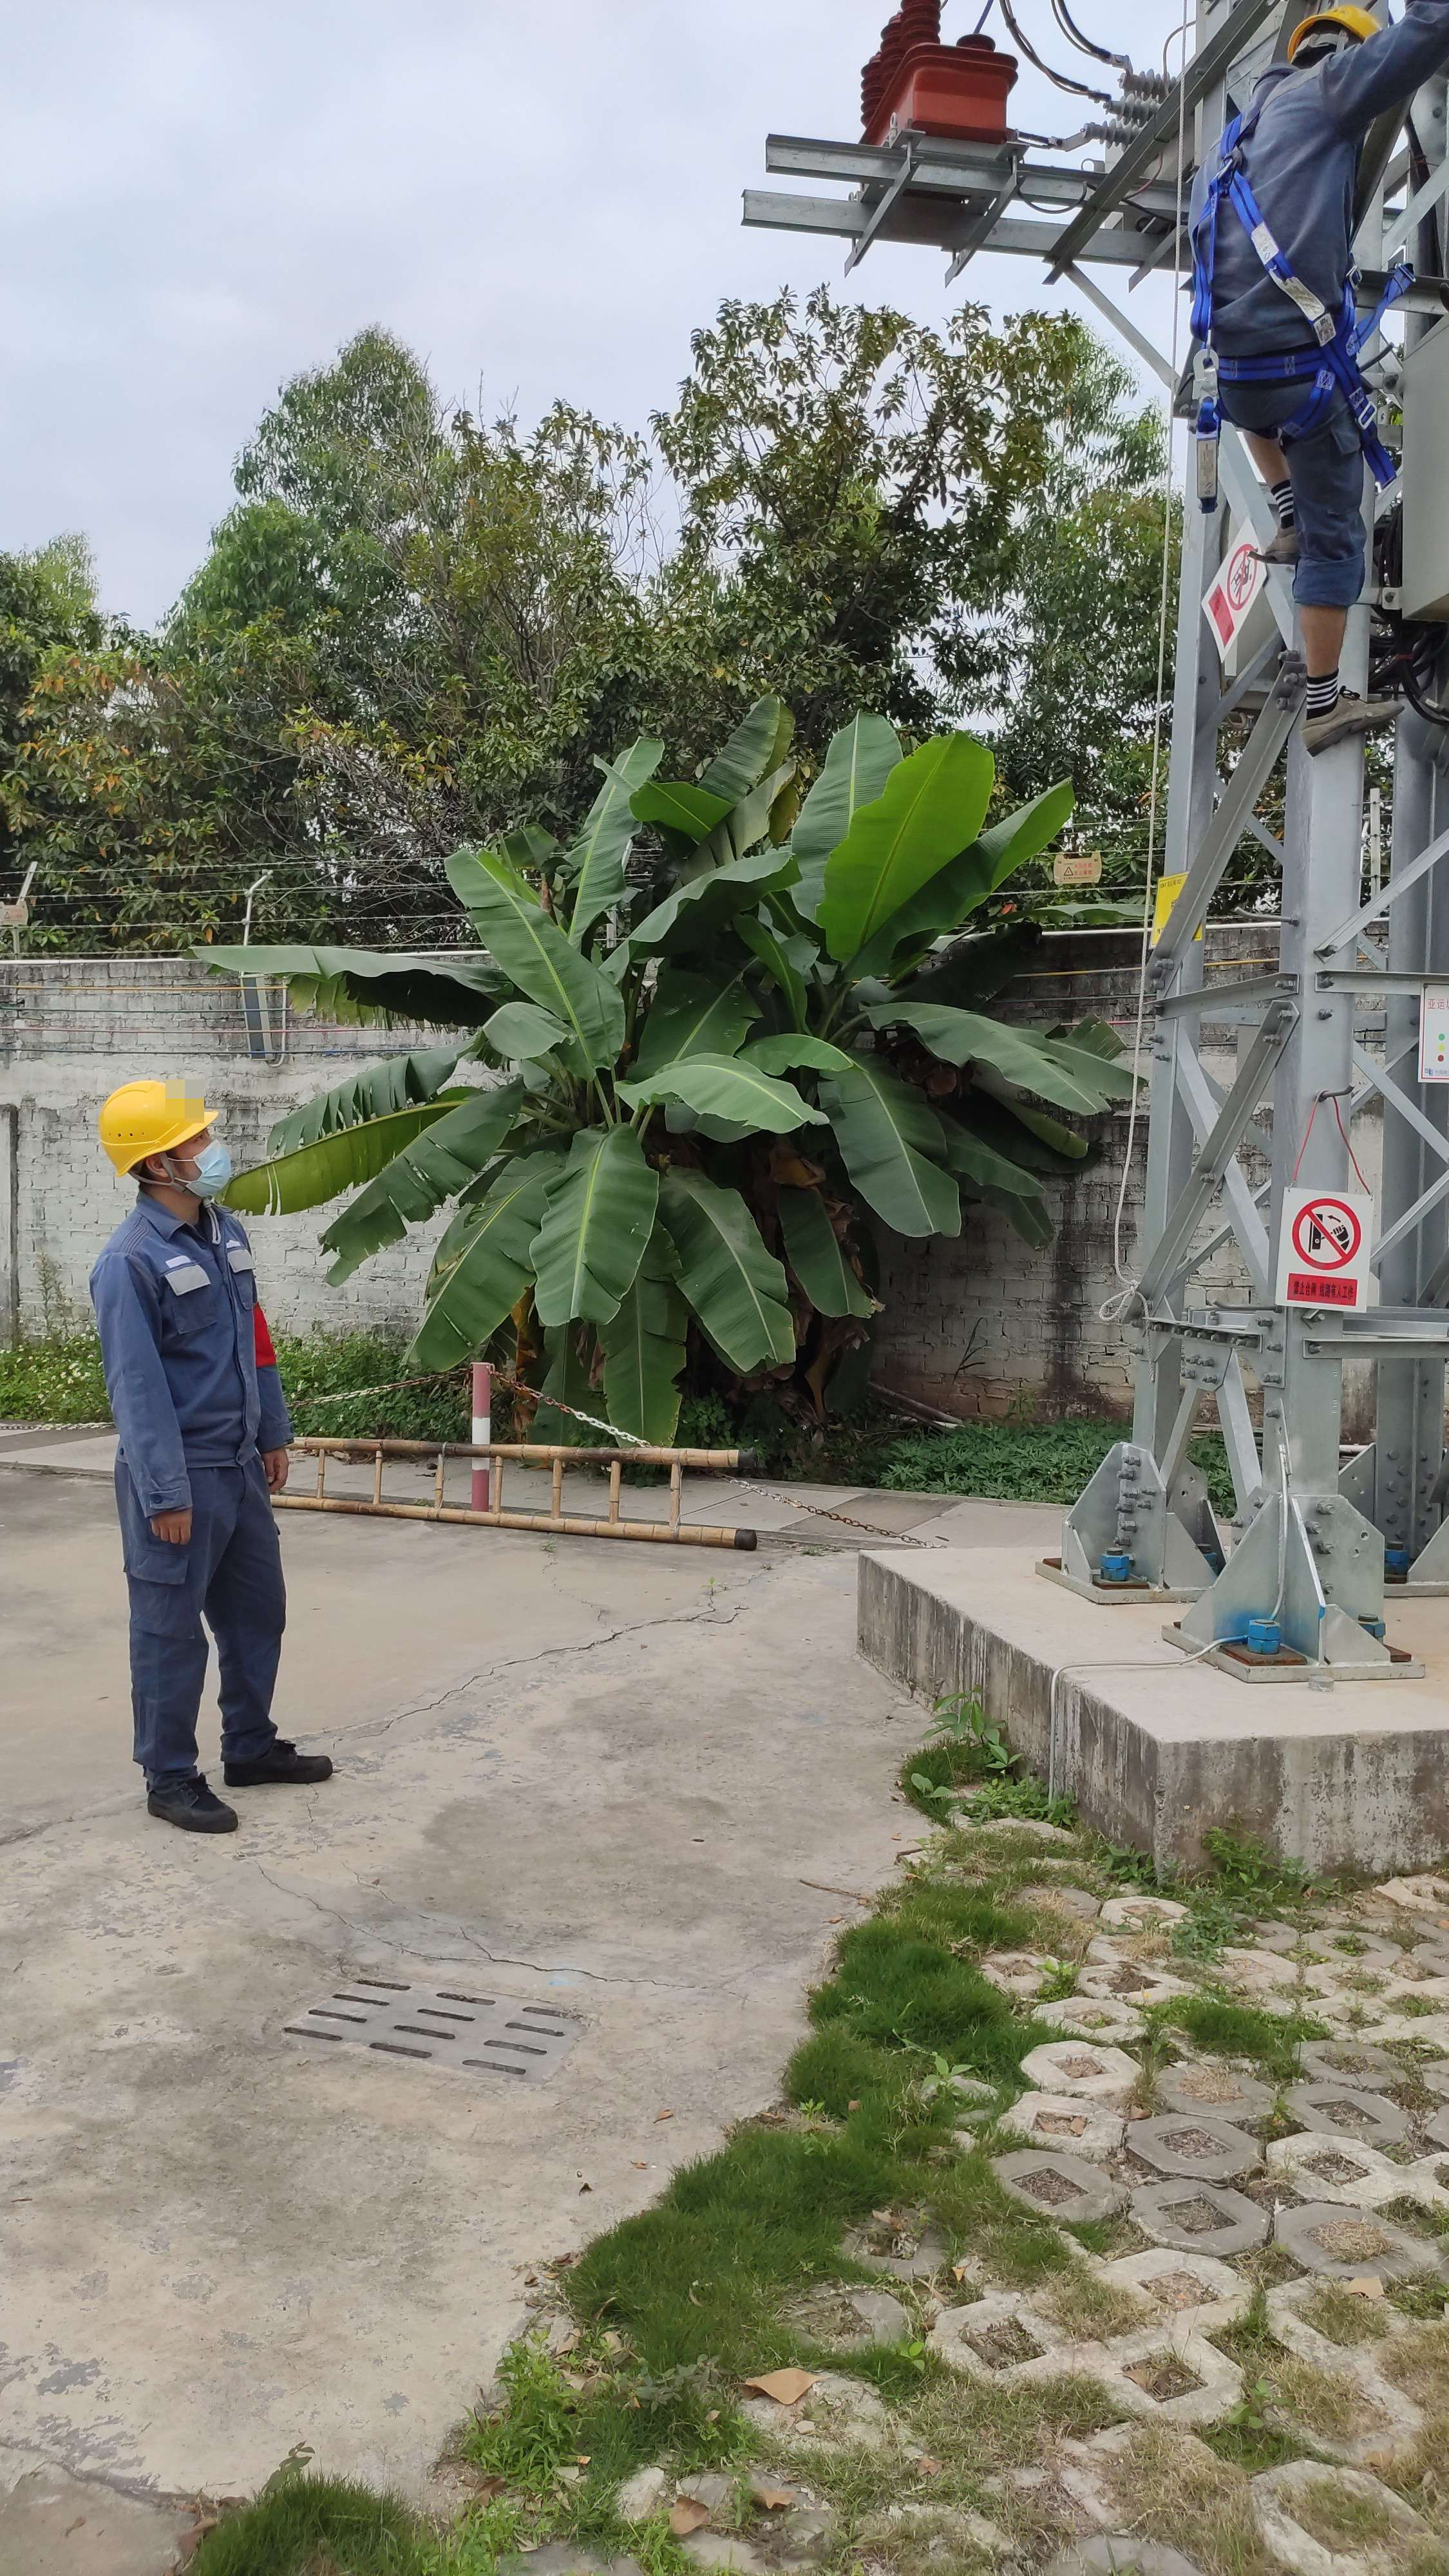downsuit: (122, 1477, 292, 1750), (1212, 356, 1378, 621)
upsuit: (110, 1226, 290, 1458), (1205, 88, 1361, 327)
wrongbottom: (1300, 554, 1361, 681)
